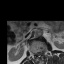CCS_normal: (38, 50, 40, 59)
LFS_stenosis: (42, 49, 44, 54)
LLS_severe_stenosis: (40, 50, 42, 56)
RFS_stenosis: (34, 50, 36, 56)
RLS_stenosis: (36, 50, 38, 57)
